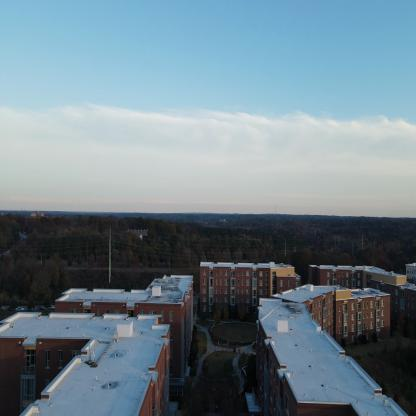Wolf Ridge: (260, 251, 415, 415), (35, 238, 200, 380), (196, 251, 296, 324)
